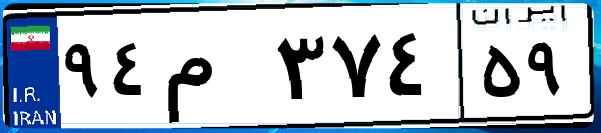3: (270, 28, 330, 110)
4: (385, 28, 445, 110), (110, 28, 158, 98)
5: (475, 38, 525, 113)
7: (330, 28, 385, 110)
9: (57, 26, 110, 100), (525, 38, 570, 115)
م: (158, 20, 270, 120)
